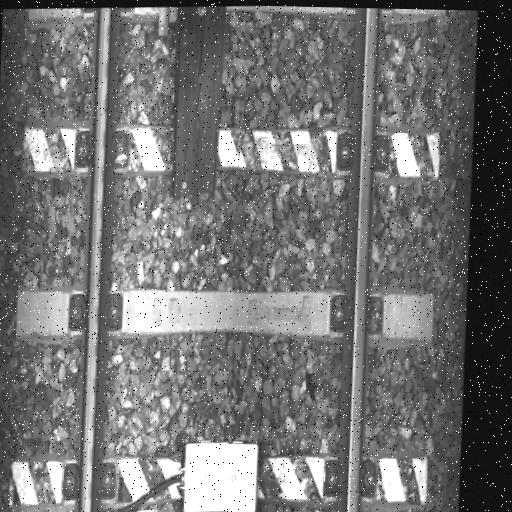sleeper: (12, 277, 437, 353), (19, 120, 443, 193), (7, 442, 430, 512), (28, 1, 446, 34)
